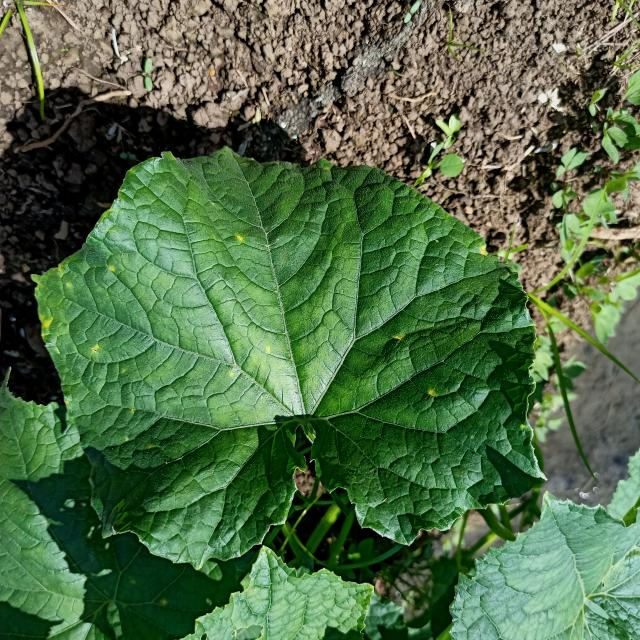disease_cucumber: (40, 312, 51, 336), (391, 335, 404, 342), (479, 246, 486, 256), (91, 345, 99, 353), (265, 344, 271, 353), (428, 389, 435, 396), (519, 423, 527, 429), (236, 235, 244, 241), (64, 399, 70, 406), (108, 266, 115, 271), (229, 371, 234, 377), (130, 408, 135, 412)
